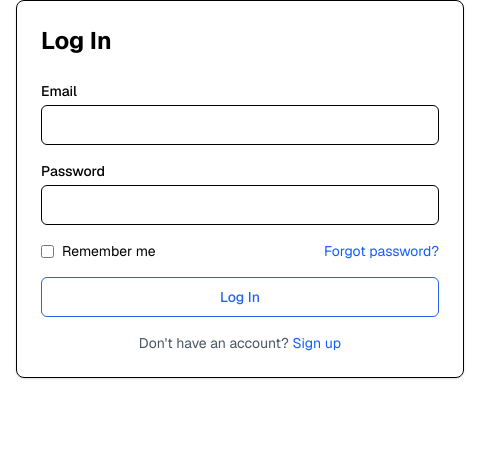
LoginForm › Form Validation › shows error when submitting empty form
Click the button "Log In" at coordinates (240, 297), box [41, 277, 439, 317]
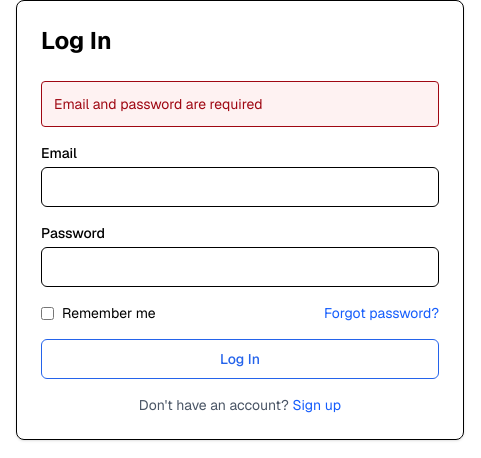
Check: the text "Email and password are required" is shown, box [41, 81, 439, 127]
